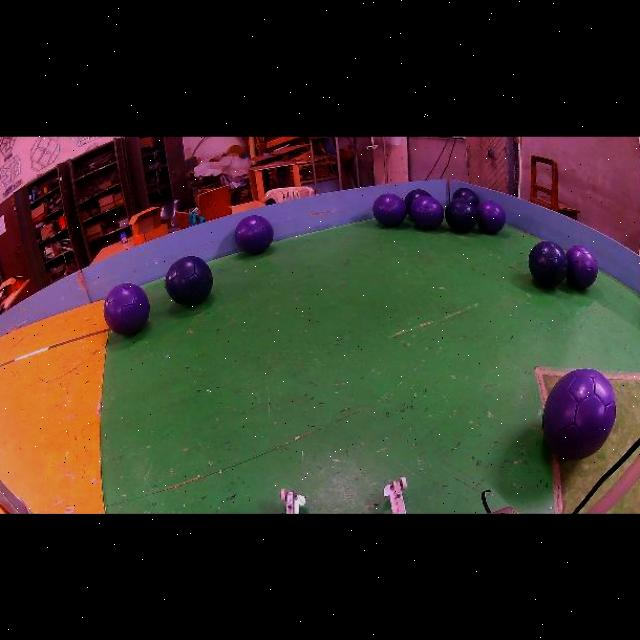B: (166, 256, 213, 306), (529, 242, 568, 289), (445, 198, 478, 232), (404, 189, 430, 215), (453, 188, 479, 207)
P: (543, 369, 615, 461), (104, 283, 150, 336), (235, 215, 273, 255), (566, 245, 598, 289), (409, 196, 444, 230), (373, 194, 407, 227), (476, 201, 506, 234)
